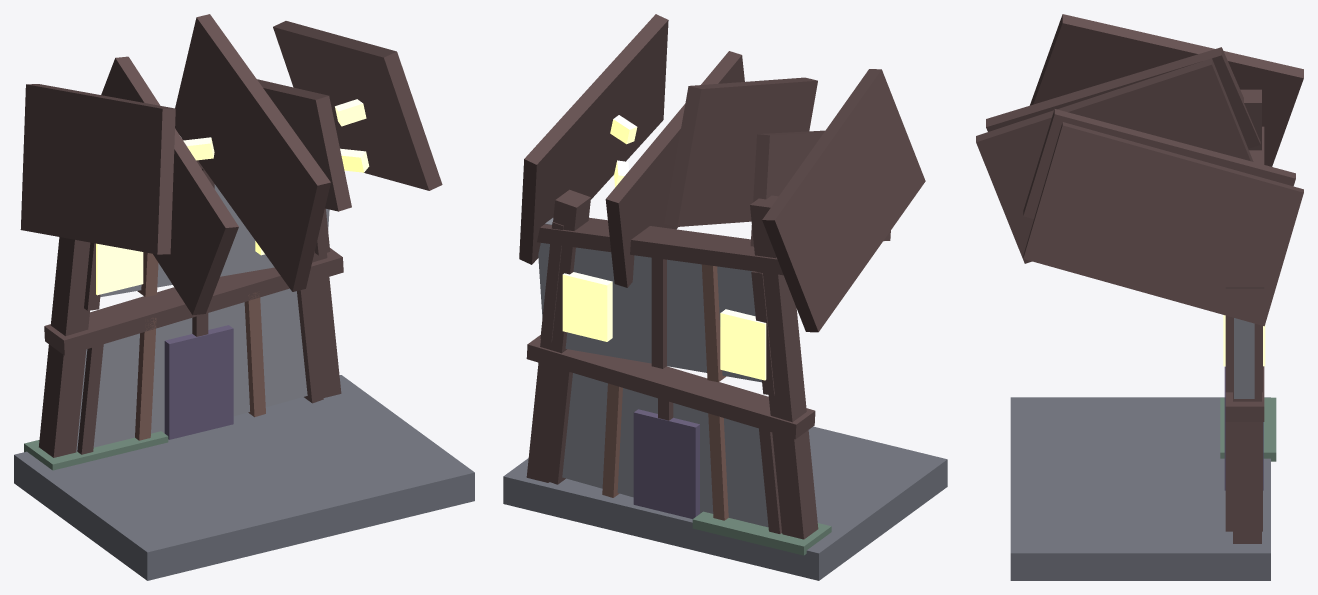
Rendered from ruined_house_burned.glb.
3 views of the same model, side by side, from view 1: azimuth 30°, elevation 25°; view 2: azimuth 150°, elevation 25°; view 3: azimuth 270°, elevation 25° (orthographic). The views are drawn at different scales.
Parts seen in each view (by area): view 1: Moonpost Burned Timber House; view 2: Moonpost Burned Timber House; view 3: Moonpost Burned Timber House.
Boxes of the visible parts, left/top/right/bottom form: Moonpost Burned Timber House: left=14, top=14, right=474, bottom=580; Moonpost Burned Timber House: left=503, top=14, right=947, bottom=580; Moonpost Burned Timber House: left=976, top=14, right=1303, bottom=580.
Size of the model in its own units: 0.51 by 0.6711 by 0.4539.
